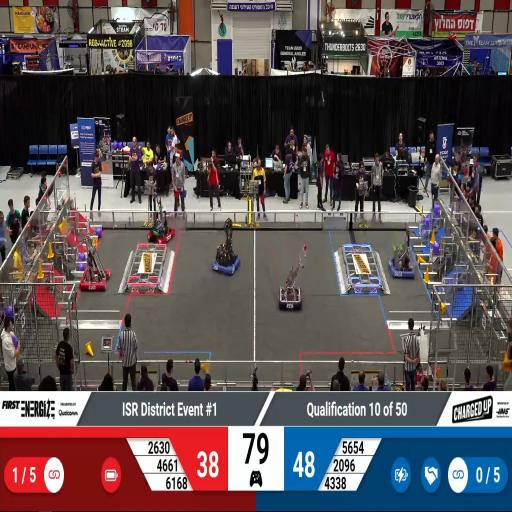robot: (78, 256, 112, 293), (210, 239, 242, 277), (276, 274, 304, 315), (146, 214, 176, 248), (389, 248, 416, 280)
